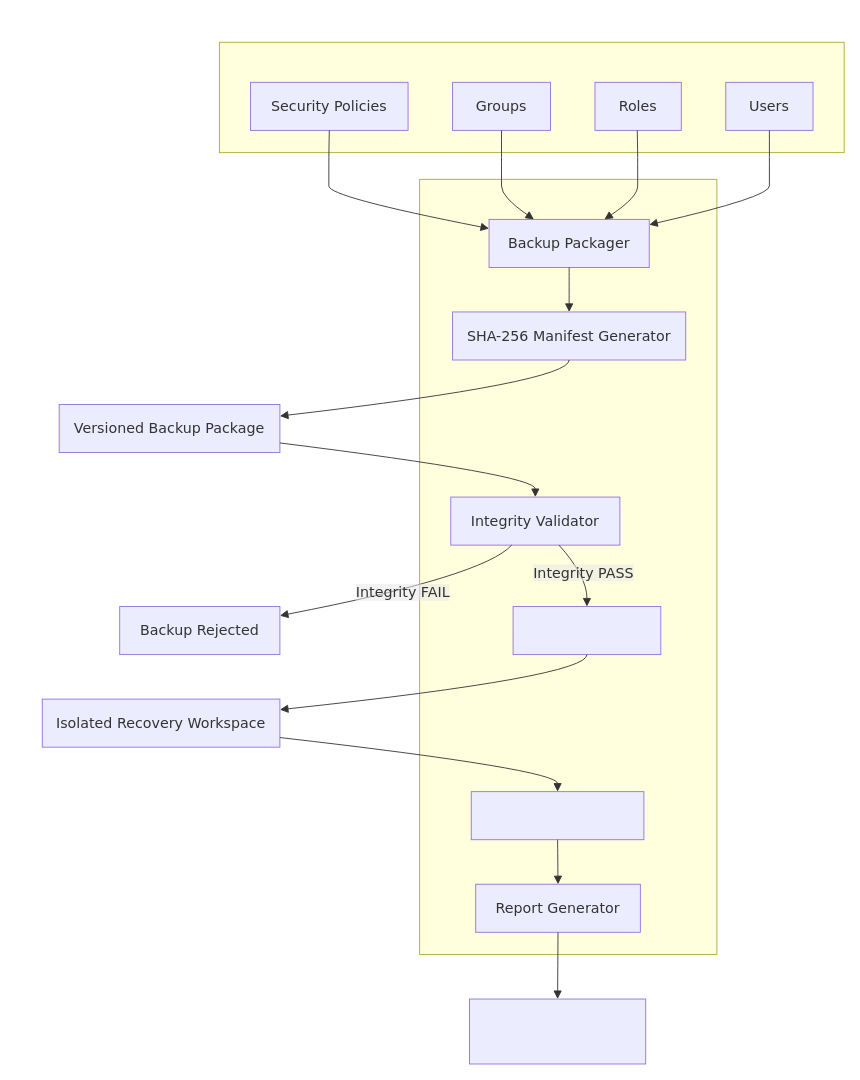
The diagram is 860 pixels wide and 1080 high, and some of its shapes have lost their labels. The shapes that lost their labels are listed below. From the top down, each one's box as (x1, y1, x2, y2) in pixels, then its label:
(218, 41, 844, 153): Sunhaven Care Fictional IAM State
(419, 178, 717, 955): SIRVT
(512, 606, 661, 655): Restore Engine
(470, 791, 644, 840): Recovery Validator
(469, 998, 646, 1064): HTML / JSON / CSV Recovery Evidence
